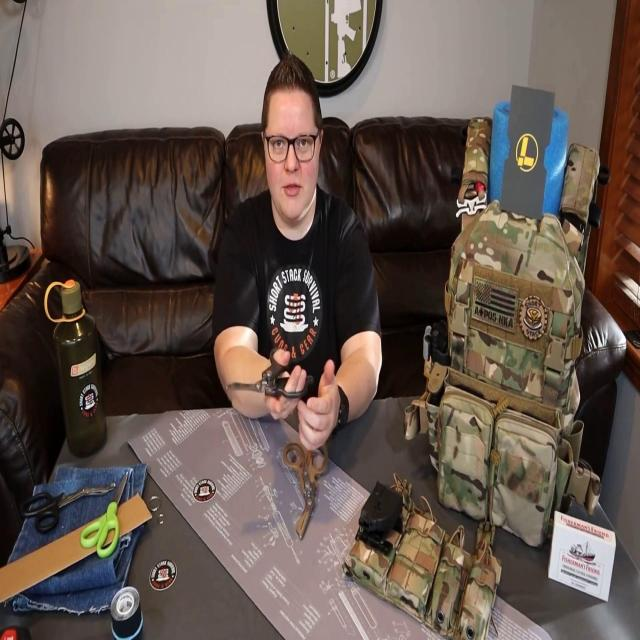scissor: (18, 480, 116, 535), (283, 438, 328, 540), (226, 346, 314, 398), (80, 470, 128, 559)
